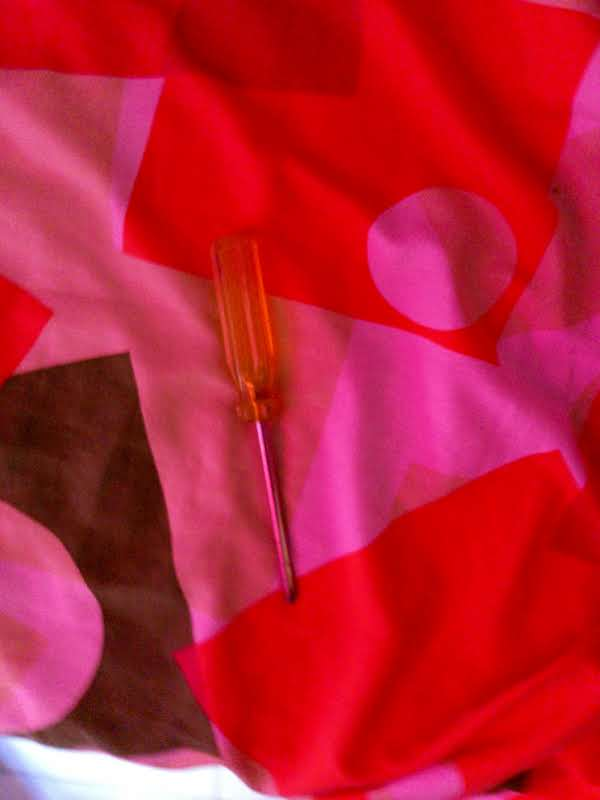Destornillador: (211, 232, 296, 601)
